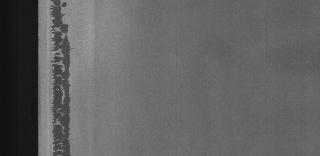oil spot: (46, 0, 88, 156)
